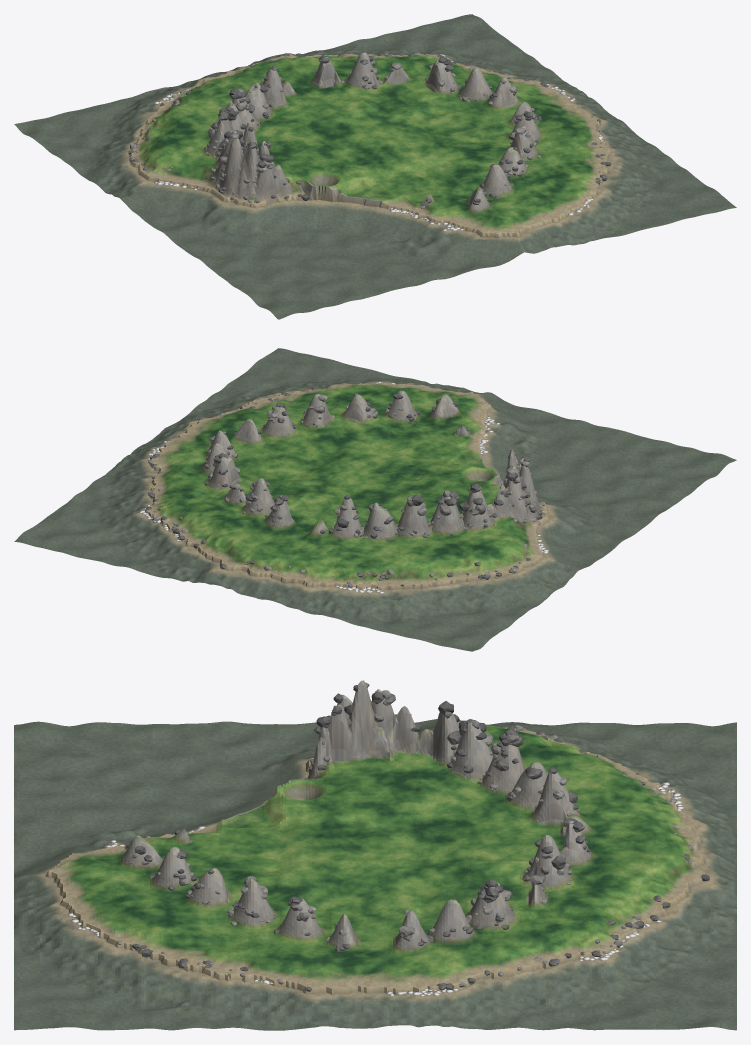
The model's file is Terrain_P3.fbx.
3 views of the same model, one above another, from view 1: azimuth 30°, elevation 25°; view 2: azimuth 150°, elevation 25°; view 3: azimuth 270°, elevation 25° (orthographic). The views are drawn at different scales.
Visible parts, largest first — view 1: Ground, Surf; view 2: Ground, Surf; view 3: Ground, Surf.
Boxes of the visible parts, bbox=[...] form: Ground: bbox=[14, 14, 736, 319]; Surf: bbox=[154, 54, 603, 231]; Ground: bbox=[14, 348, 736, 651]; Surf: bbox=[139, 381, 548, 593]; Ground: bbox=[14, 680, 736, 1030]; Surf: bbox=[67, 729, 683, 996].
Size of what is drawn, in the model's own units: 64000 by 10815 by 64000.
